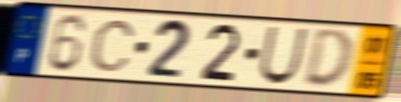2: (143, 15, 196, 85), (199, 22, 242, 84)
6: (46, 11, 88, 75)
C: (87, 18, 138, 74)
D: (301, 27, 355, 92)
U: (257, 24, 311, 87)
